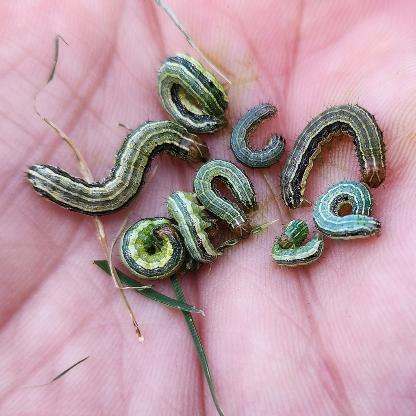Fall Armyworm Larvae: (18, 117, 216, 221), (273, 95, 395, 215), (150, 46, 236, 142), (187, 154, 262, 244), (112, 211, 190, 288), (306, 174, 387, 245), (161, 186, 227, 272), (223, 96, 293, 176), (267, 215, 333, 275)
